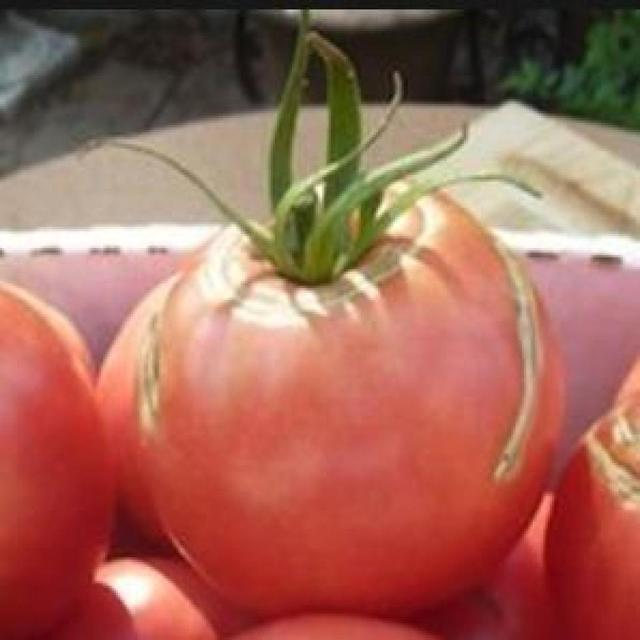Cracking Fruit: (42, 71, 403, 308)
